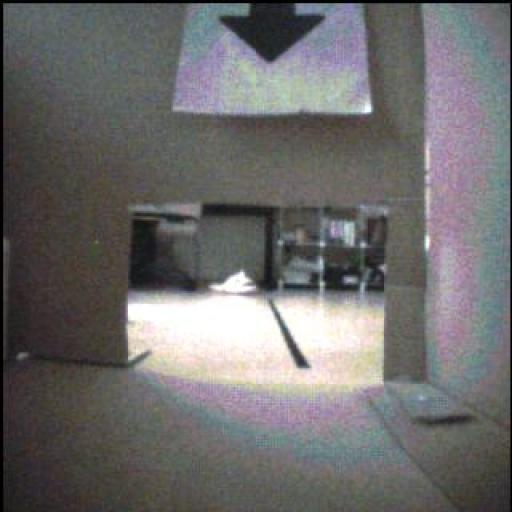arrow: (220, 5, 326, 64)
